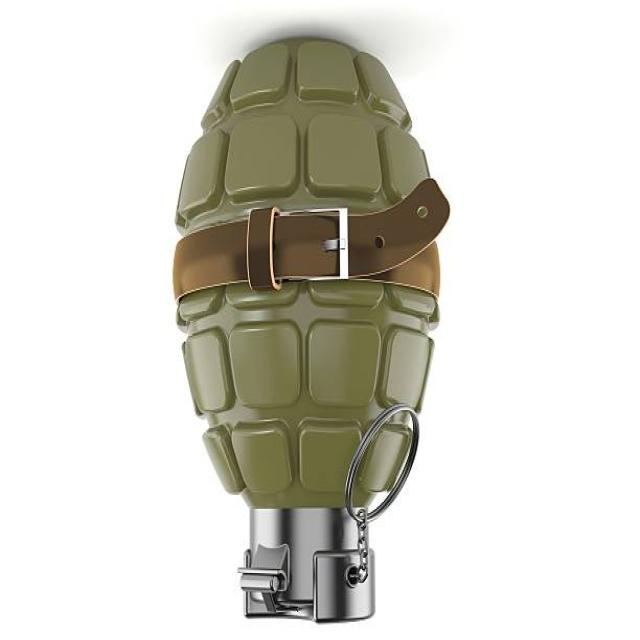grenade: (167, 25, 455, 634)
